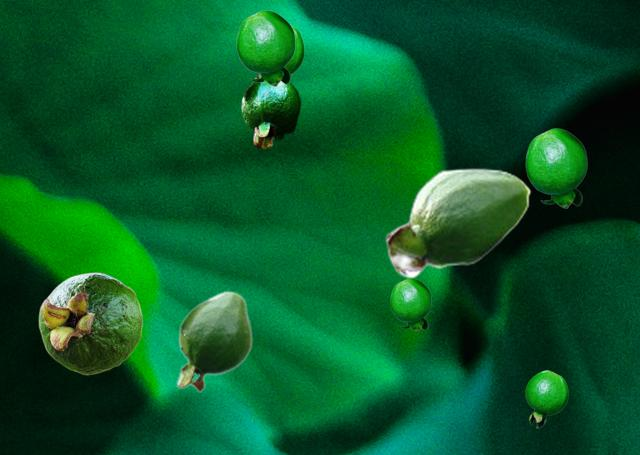guava: (385, 167, 530, 278), (38, 272, 142, 374), (176, 290, 251, 392), (525, 128, 586, 207), (236, 10, 294, 85), (241, 77, 300, 149), (255, 25, 303, 77), (525, 370, 567, 427), (390, 278, 430, 330)
